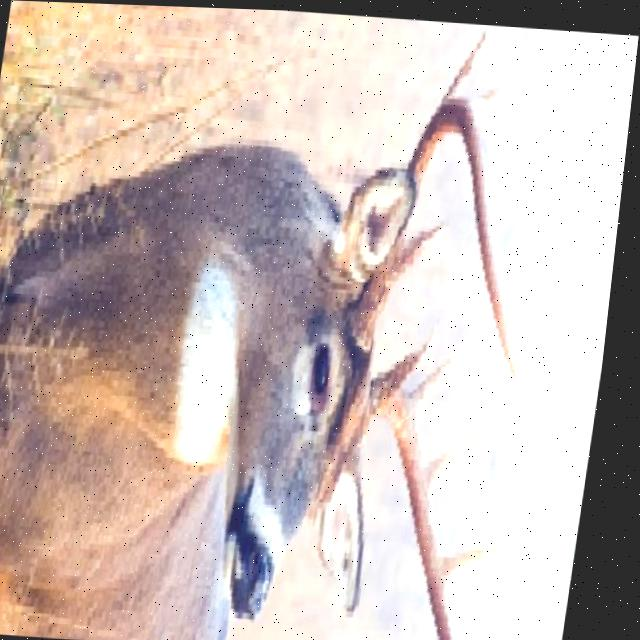L-G1: (403, 214, 454, 277)
L-G2: (443, 24, 488, 94)
L-G3: (472, 80, 533, 118)
L-G4: (490, 141, 506, 169)
R-G1: (396, 316, 446, 381)
R-G2: (414, 348, 468, 420)
R-G3: (436, 421, 511, 490)
R-G4: (455, 542, 513, 593)
